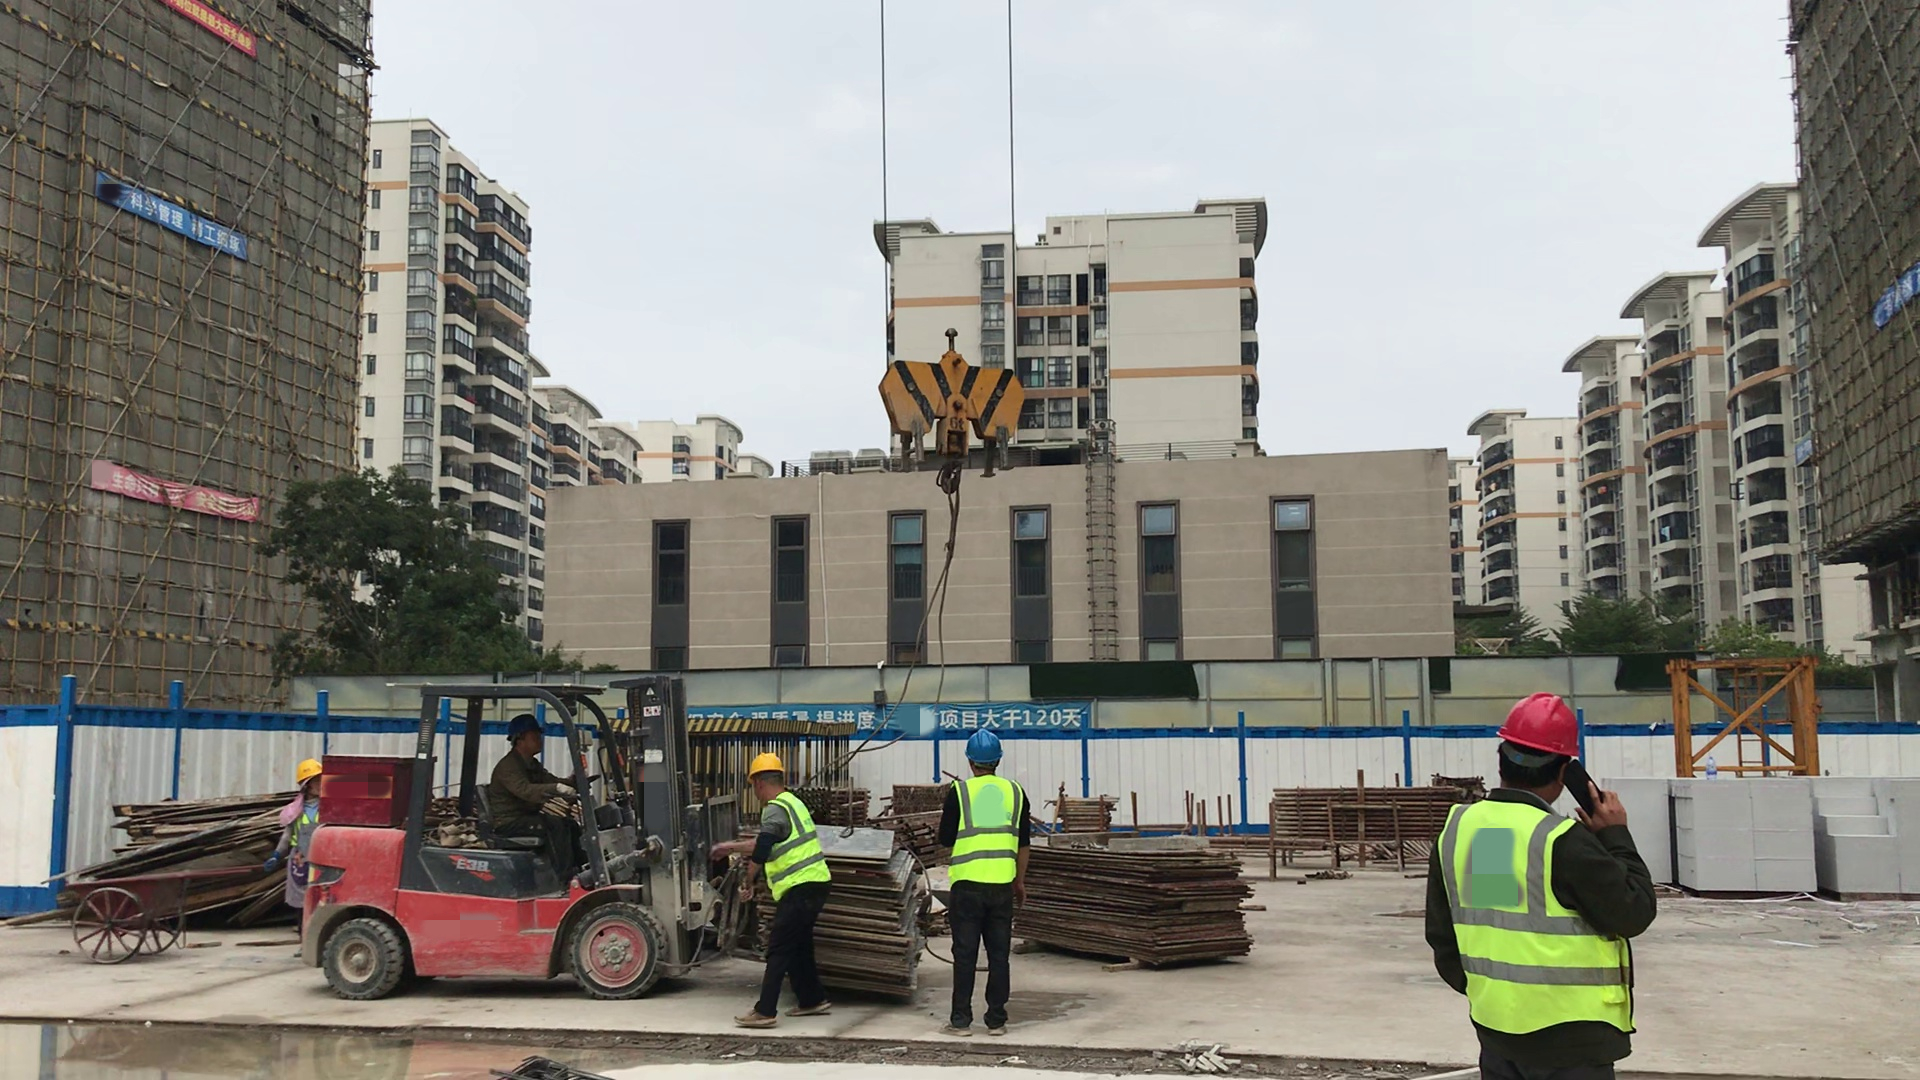board: (1015, 835, 1264, 974), (807, 819, 929, 1005)
brick: (1690, 771, 1819, 893), (1820, 776, 1920, 892), (1634, 767, 1696, 883)
handcart: (58, 859, 263, 969)
helmet: (1499, 689, 1594, 752), (958, 731, 1007, 766), (743, 752, 794, 777), (506, 710, 544, 741), (291, 758, 327, 780)
hook: (865, 329, 1037, 475)
person: (1415, 690, 1681, 1080), (918, 724, 1064, 1041), (717, 745, 848, 1022), (482, 711, 618, 883), (273, 756, 317, 941)
scaffold: (1269, 787, 1440, 841), (807, 786, 864, 822)
slogan: (679, 700, 1093, 744), (104, 161, 239, 257), (79, 459, 265, 523), (147, 1, 257, 57)
vest: (1434, 801, 1649, 1020), (951, 778, 1018, 885), (751, 800, 829, 887)
